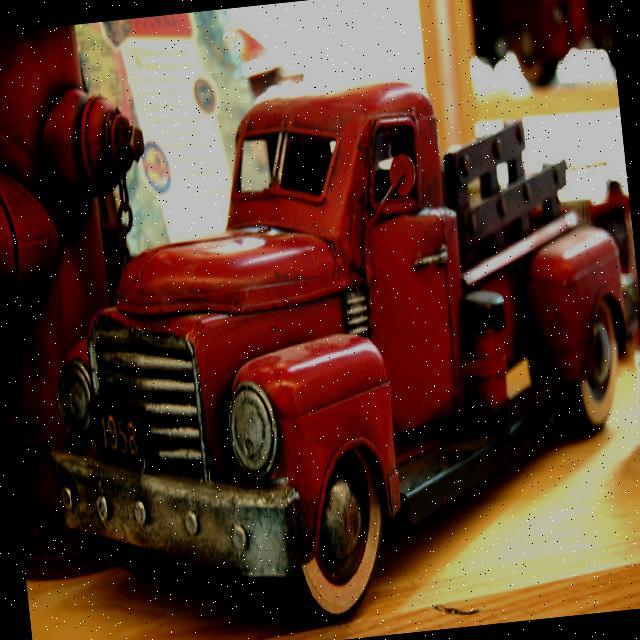fire_hydrant: (0, 18, 188, 574)
